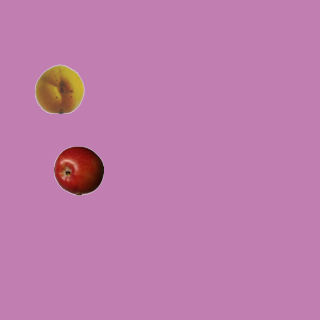Apple Braeburn: (53, 145, 103, 195)
Peach 2: (34, 63, 84, 113)
